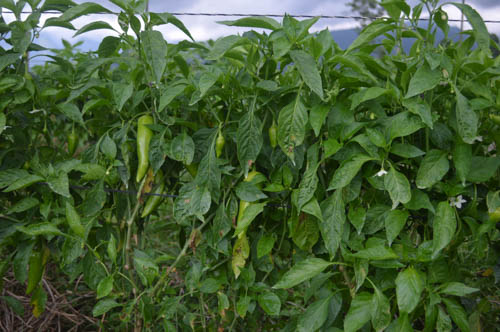ChiliPepper: (235, 172, 265, 233), (133, 116, 156, 178)
